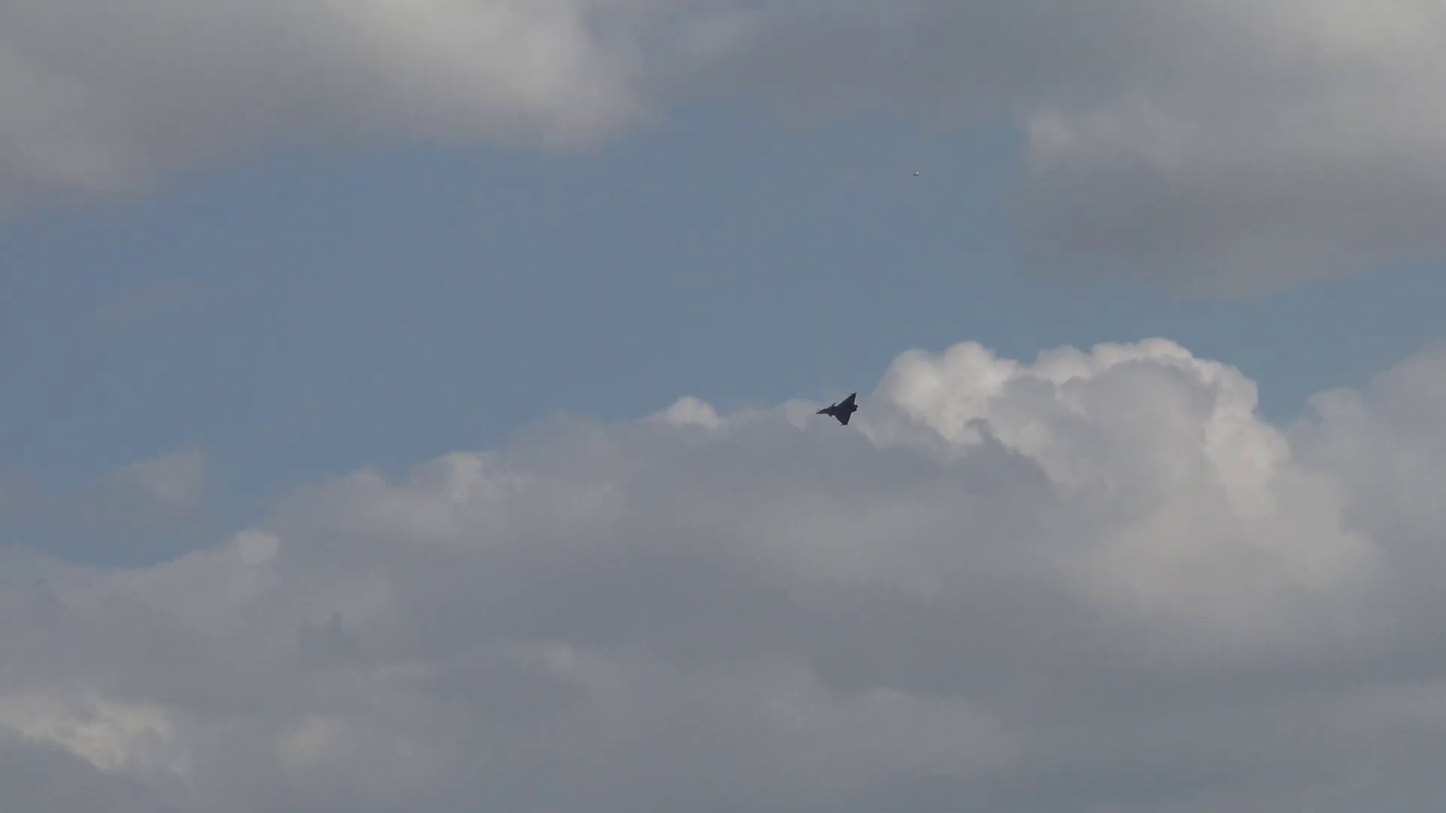Rafale: (815, 392, 858, 427)
